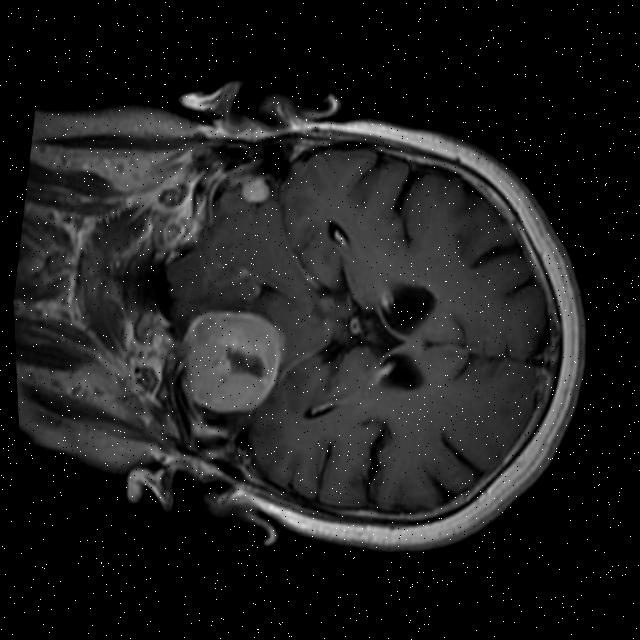Meningioma: (170, 303, 290, 422), (236, 173, 273, 208)
